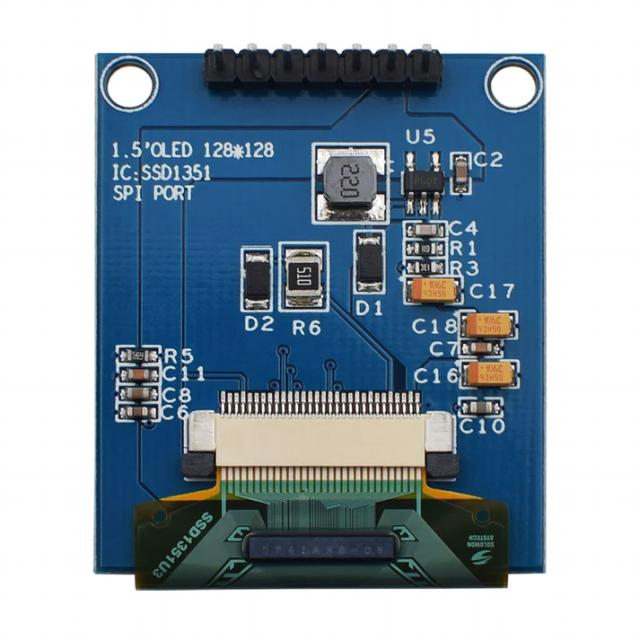IC: (400, 150, 444, 208)
capacitor 1V5: (460, 310, 516, 338), (410, 275, 461, 303), (463, 359, 520, 384), (118, 368, 158, 386), (463, 336, 498, 356), (124, 403, 161, 421), (465, 399, 500, 417), (409, 218, 442, 237), (124, 385, 161, 399), (454, 157, 468, 192)
connector -5v-: (188, 405, 456, 491), (193, 40, 445, 101)
diode -D1-: (241, 254, 277, 315), (354, 228, 386, 293)
inductor F1: (315, 148, 389, 220)
resistor IR1: (282, 245, 322, 308), (118, 346, 157, 364), (411, 240, 441, 259), (412, 261, 450, 275)
